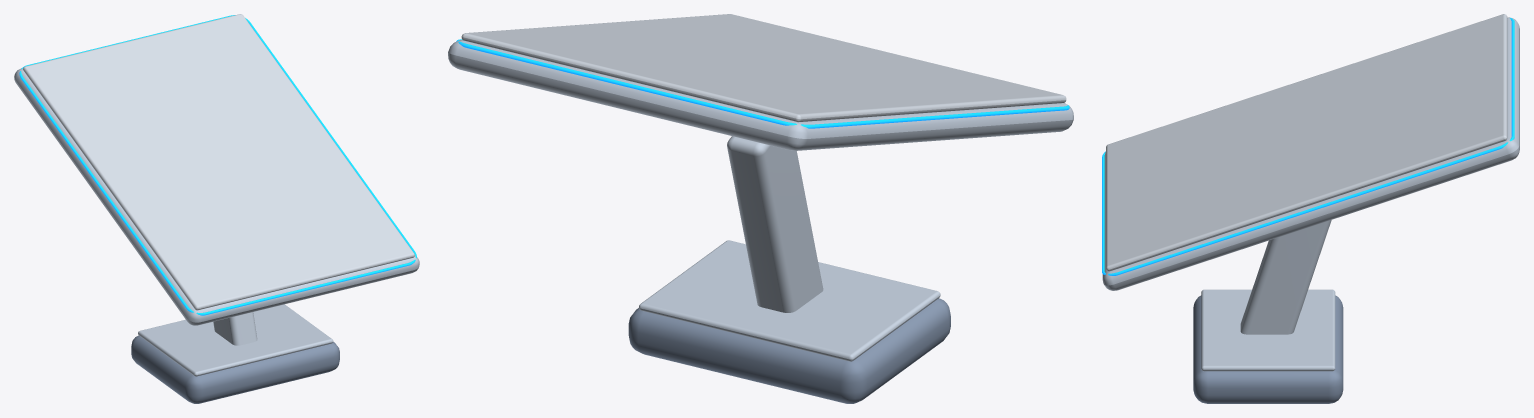
File: pn_ico_puntonet_space.glb
3 views of the same model, side by side, from view 1: azimuth 30°, elevation 25°; view 2: azimuth 150°, elevation 25°; view 3: azimuth 270°, elevation 25° (orthographic). The views are drawn at different scales.
Visible parts, largest first — view 1: space_radiating_face, space_mount_trim, space_frame, space_mount, space_blue_edge, space_support; view 2: space_radiating_face, space_frame, space_mount_trim, space_mount, space_support, space_blue_edge; view 3: space_radiating_face, space_frame, space_mount_trim, space_mount, space_support, space_blue_edge.
Boxes of the visible parts, x1=… form: space_radiating_face: x1=23, y1=14, x2=414, y2=310; space_mount_trim: x1=138, y1=304, x2=333, y2=376; space_frame: x1=14, y1=68, x2=419, y2=325; space_mount: x1=131, y1=335, x2=339, y2=403; space_blue_edge: x1=19, y1=15, x2=416, y2=315; space_support: x1=213, y1=312, x2=257, y2=345; space_radiating_face: x1=461, y1=14, x2=1066, y2=122; space_frame: x1=448, y1=40, x2=1073, y2=150; space_mount_trim: x1=639, y1=240, x2=940, y2=361; space_mount: x1=628, y1=298, x2=950, y2=403; space_support: x1=727, y1=136, x2=823, y2=312; space_blue_edge: x1=456, y1=39, x2=1069, y2=128; space_radiating_face: x1=1106, y1=14, x2=1507, y2=271; space_frame: x1=1102, y1=17, x2=1519, y2=290; space_mount_trim: x1=1201, y1=289, x2=1335, y2=371; space_mount: x1=1193, y1=295, x2=1343, y2=403; space_support: x1=1240, y1=220, x2=1331, y2=334; space_blue_edge: x1=1102, y1=18, x2=1514, y2=275.
Bounding box in the file's own units: 1.15 × 1.2 × 1.56.
